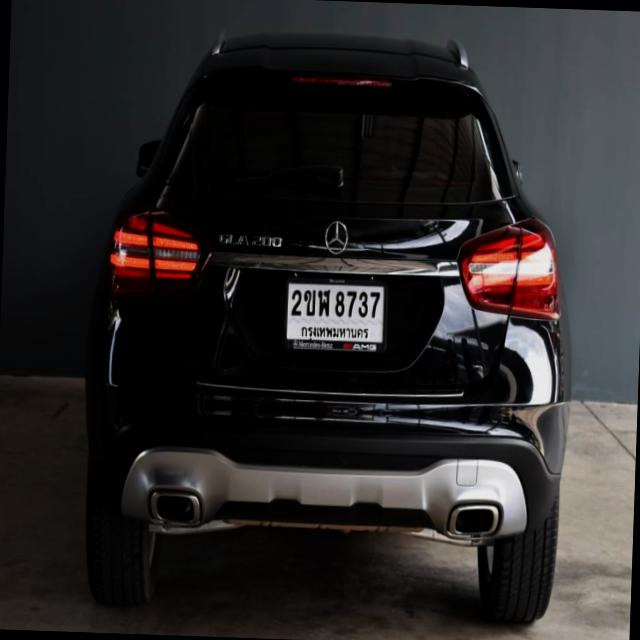license_plate: (282, 274, 388, 356)
